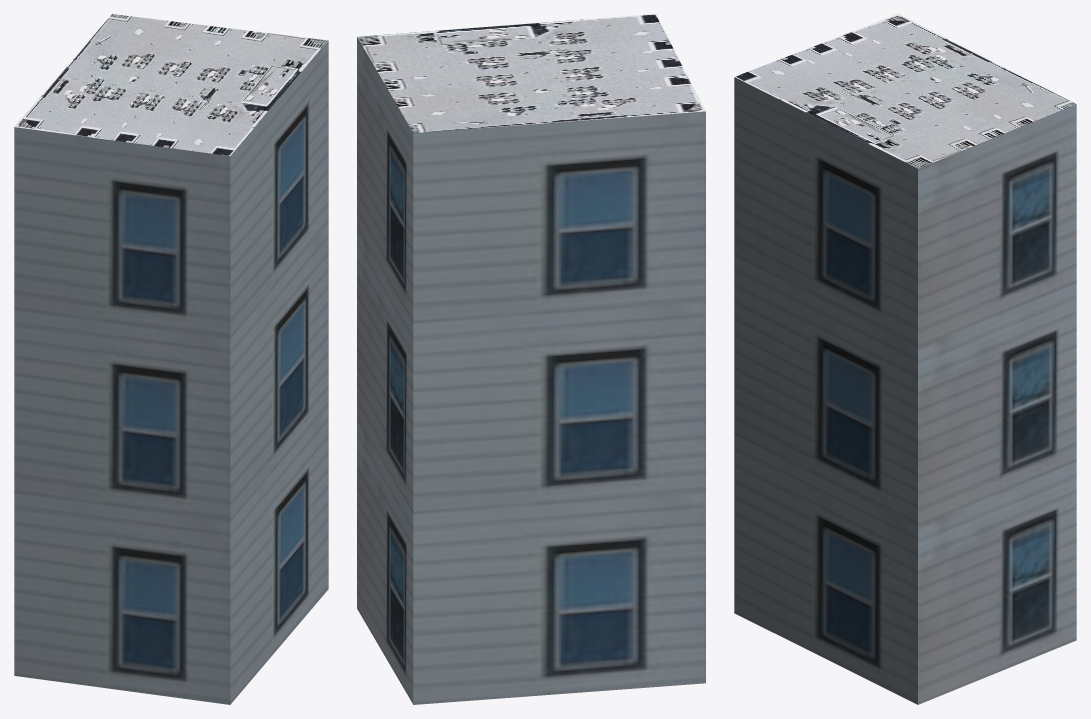
The model's file is ResTex__1042.fbx.
3 views of the same model, side by side, from view 1: azimuth 30°, elevation 25°; view 2: azimuth 150°, elevation 25°; view 3: azimuth 270°, elevation 25° (orthographic). The views are drawn at different scales.
Visible parts, largest first — view 1: CityEngineMaterial_18_m, CityEngineMaterial_4_m; view 2: CityEngineMaterial_18_m, CityEngineMaterial_4_m; view 3: CityEngineMaterial_18_m, CityEngineMaterial_4_m.
Boxes of the visible parts, left/top/right/bottom form: CityEngineMaterial_18_m: left=14, top=41, right=328, bottom=704; CityEngineMaterial_4_m: left=15, top=14, right=328, bottom=155; CityEngineMaterial_18_m: left=357, top=37, right=705, bottom=704; CityEngineMaterial_4_m: left=357, top=14, right=705, bottom=132; CityEngineMaterial_18_m: left=734, top=77, right=1076, bottom=704; CityEngineMaterial_4_m: left=735, top=14, right=1076, bottom=168.
Size of the model in its own units: 5.57 by 9 by 5.21.
Materials: 2 (2 with a texture image).
